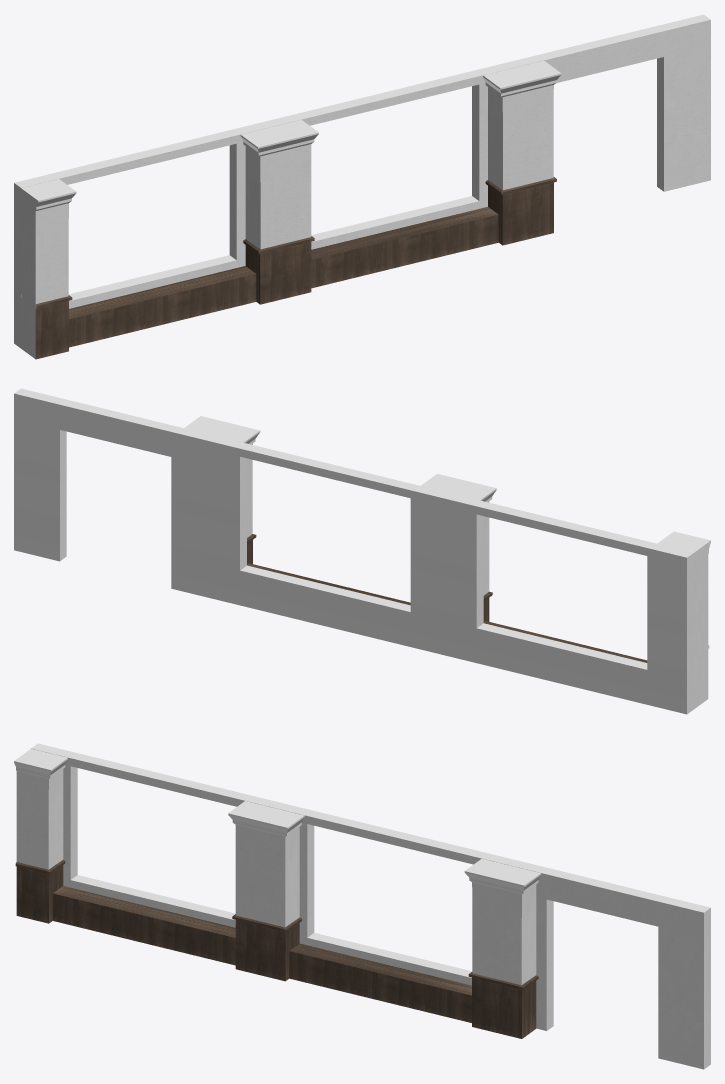
File: Wall 1.FBX
3 views of the same model, one above another, from view 1: azimuth 30°, elevation 25°; view 2: azimuth 150°, elevation 25°; view 3: azimuth 330°, elevation 25° (orthographic). The views are drawn at different scales.
Parts seen in each view (by area): view 1: wall 1; view 2: wall 1; view 3: wall 1.
Boxes of the visible parts, x1,y1,x2,y2 form: wall 1: (14, 14, 710, 359); wall 1: (14, 388, 710, 714); wall 1: (14, 743, 710, 1069).
Size of the model in its own units: 1224 by 273 by 75.29.
2 materials, 2 textured.
